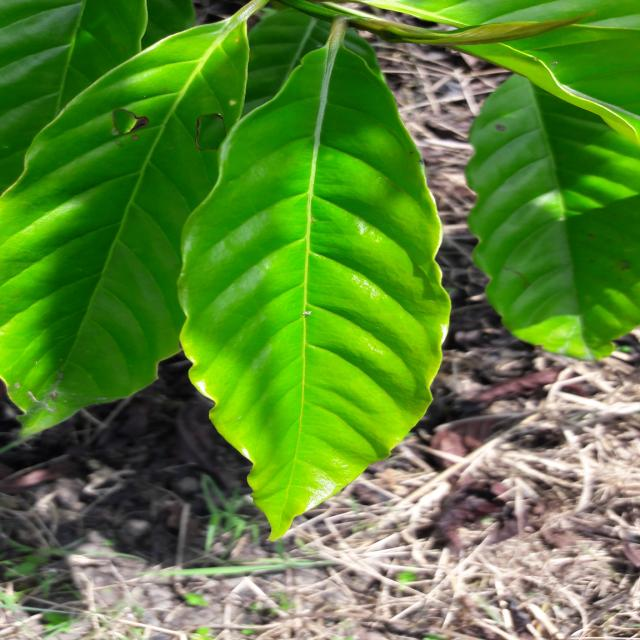Sanas: (177, 41, 451, 542)
